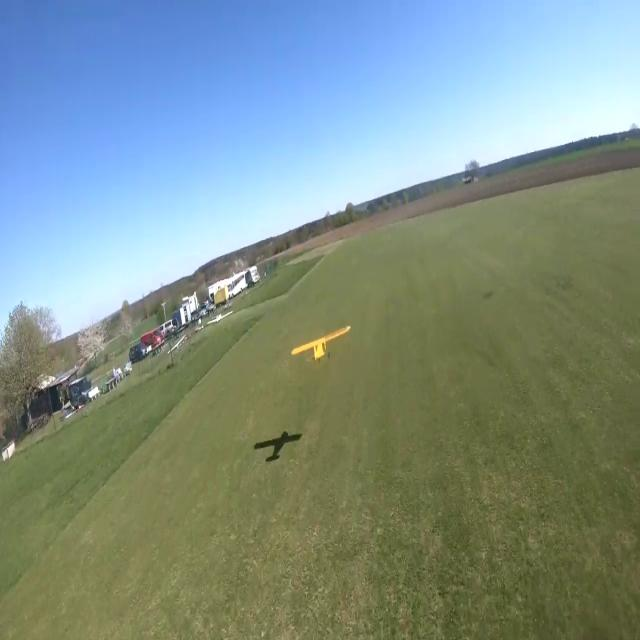iha: (318, 324, 322, 366)
